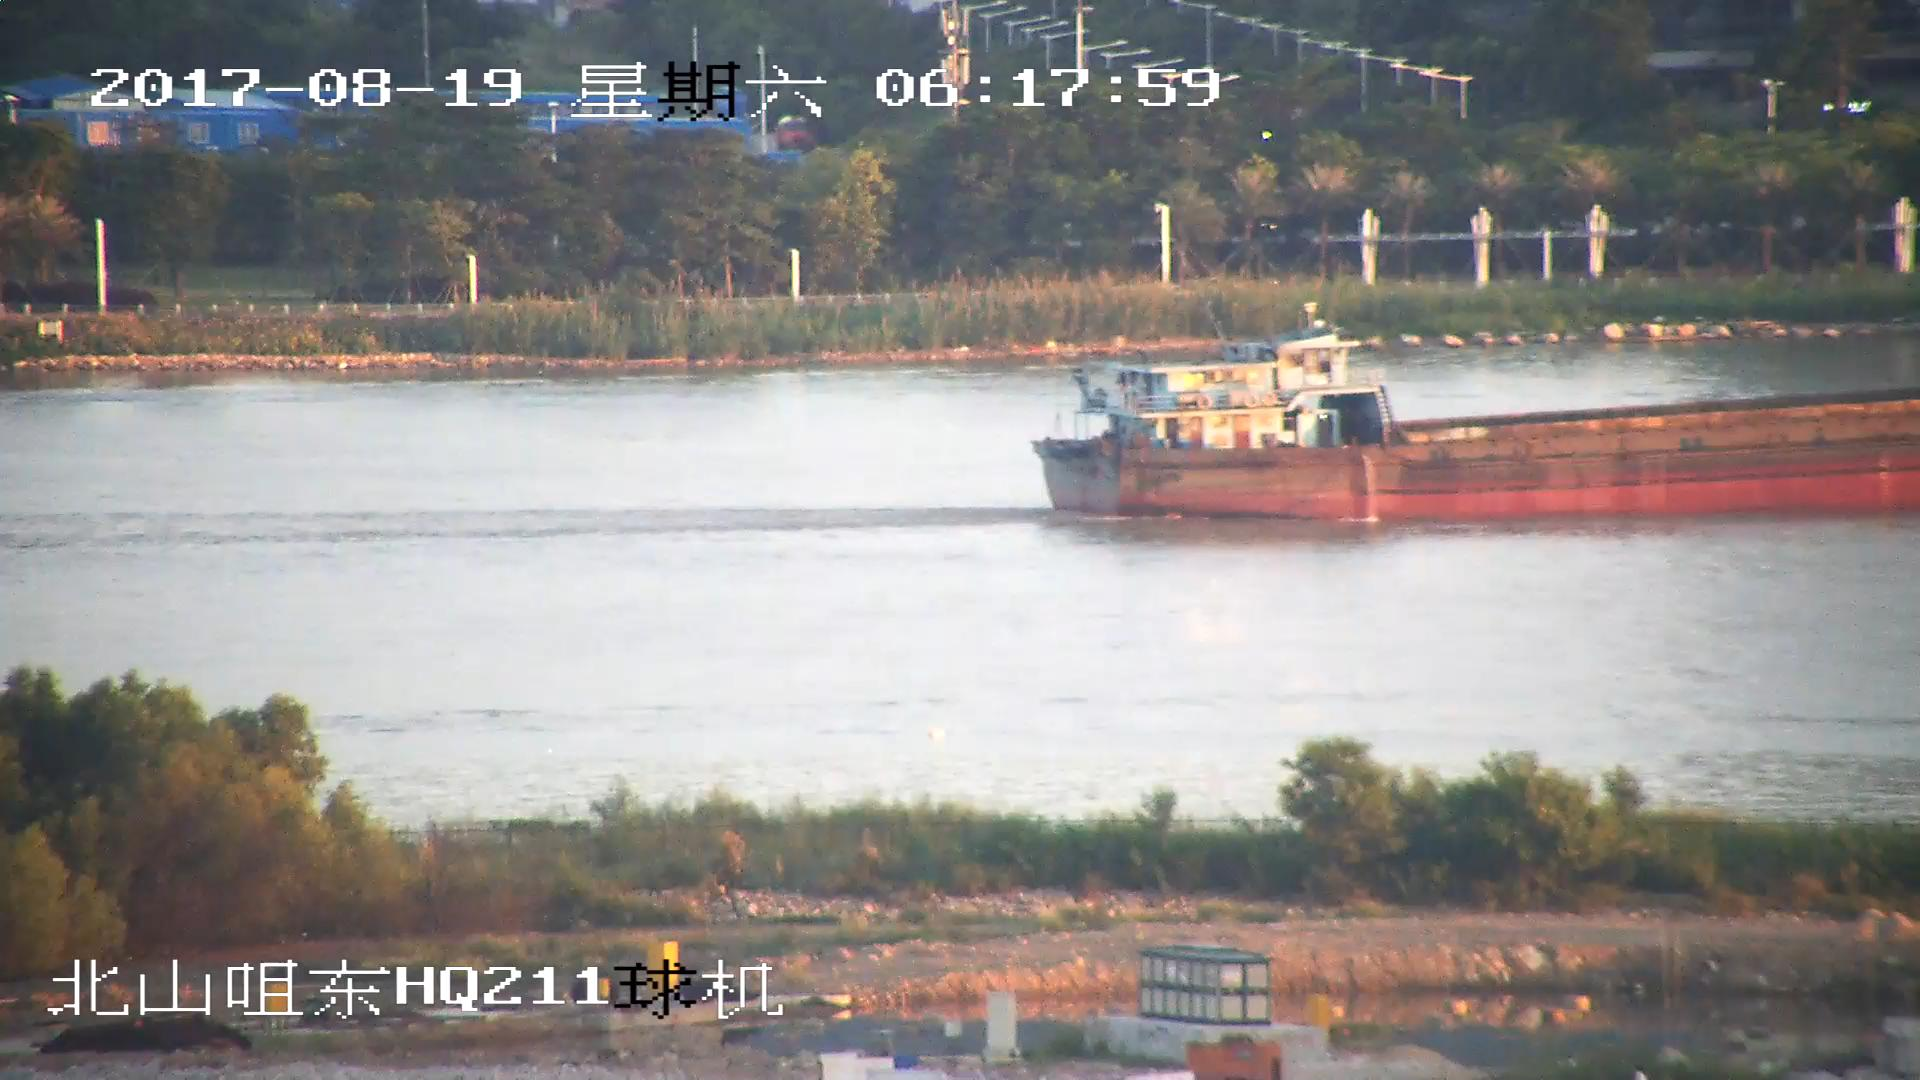bulk cargo carrier: (1028, 345, 1920, 524)
